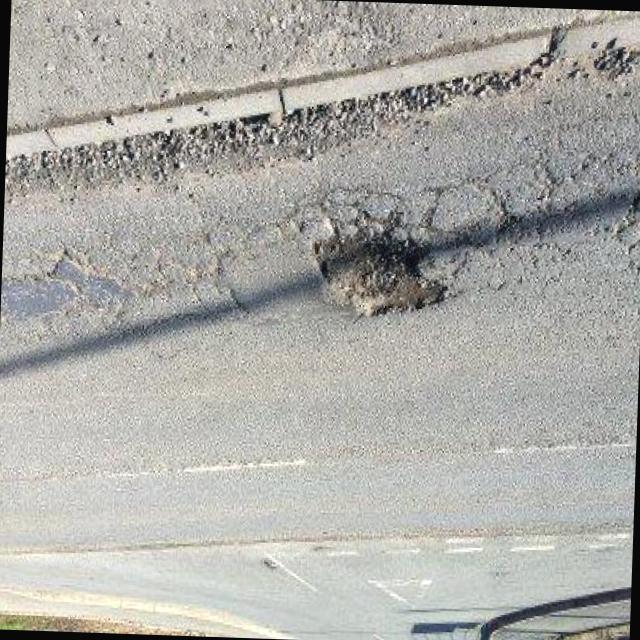pothole: (302, 212, 456, 324)
